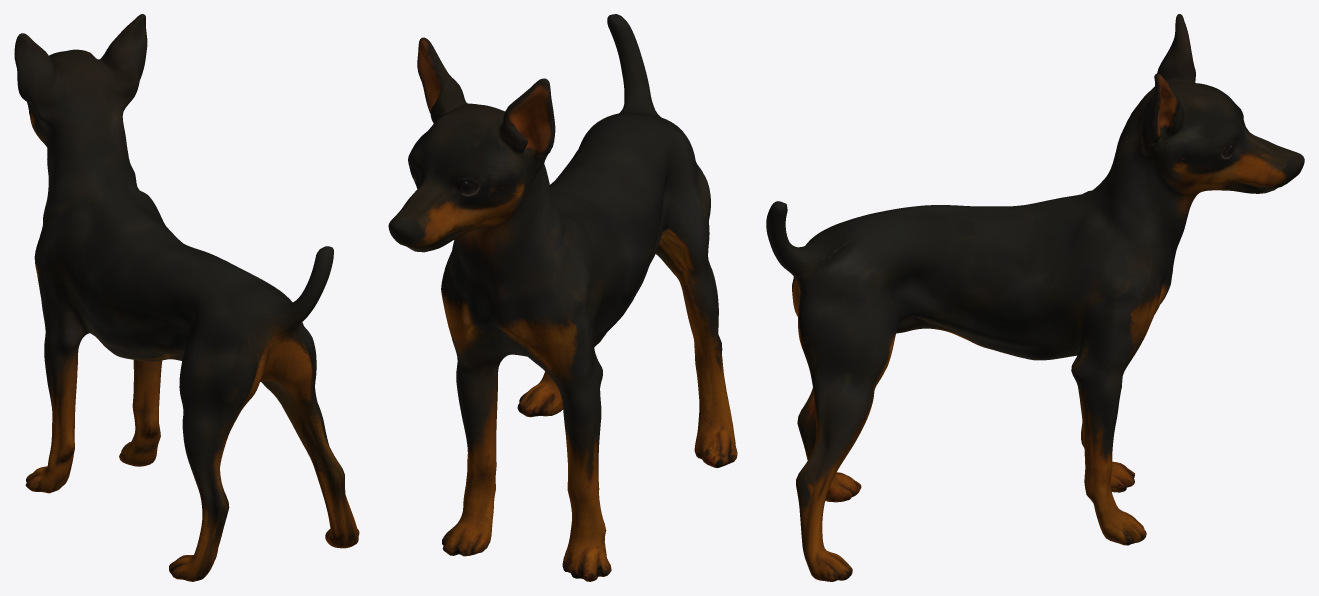
Rendered from Пинчер Серов - Боткина (1).gltf.
3 renders of one model, left to right at view 1: azimuth 30°, elevation 25°; view 2: azimuth 150°, elevation 25°; view 3: azimuth 270°, elevation 25°, orthographic. The views are drawn at different scales.
Parts seen in each view (by area): view 1: tripo_node_422b5bc9; view 2: tripo_node_422b5bc9; view 3: tripo_node_422b5bc9.
Part boxes in pixels (box(x1,y1,x2,y2)): tripo_node_422b5bc9: box(14, 14, 359, 581); tripo_node_422b5bc9: box(388, 14, 737, 581); tripo_node_422b5bc9: box(766, 14, 1304, 581).
Bounding box in the file's own units: 47.81 × 97.63 × 99.95.
Materials: 1 (1 with a texture image).
